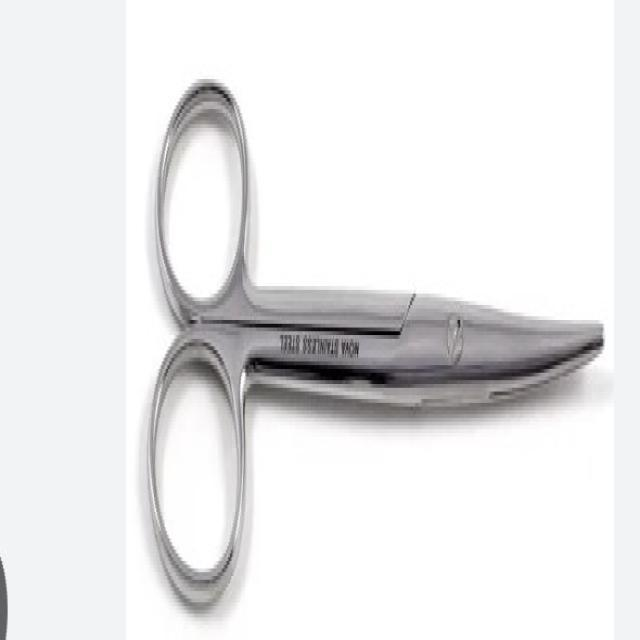Curved Mayo: (148, 70, 607, 612)
